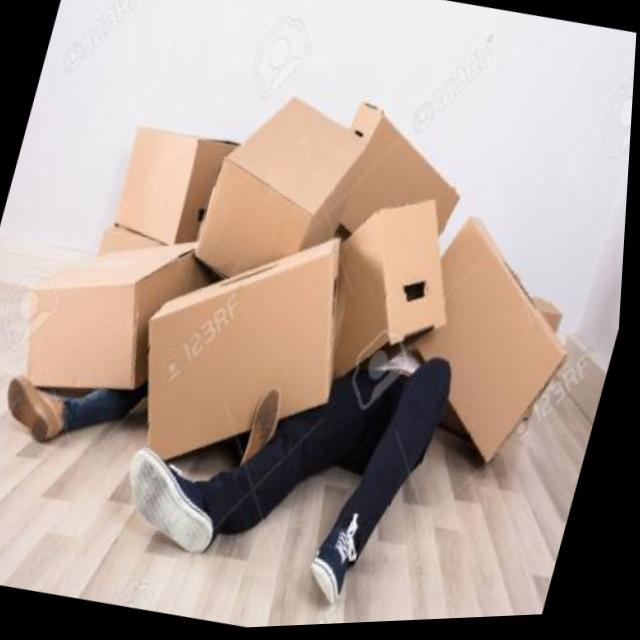box: (105, 197, 379, 518), (373, 210, 607, 516), (182, 59, 385, 311), (0, 204, 213, 441), (317, 59, 498, 276), (307, 177, 487, 387), (108, 100, 253, 255)
